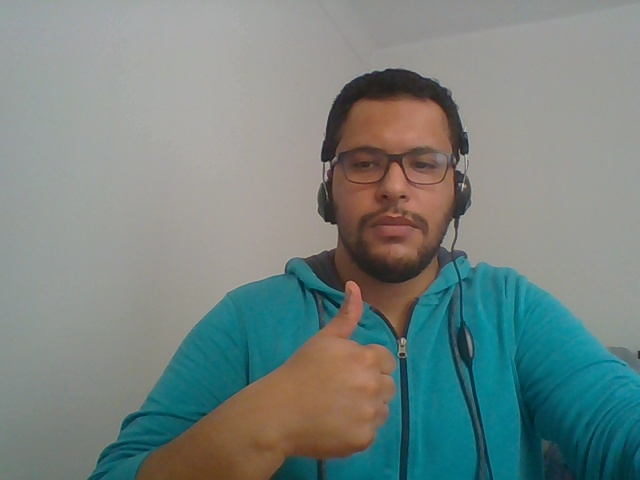ok: (236, 258, 423, 478)
